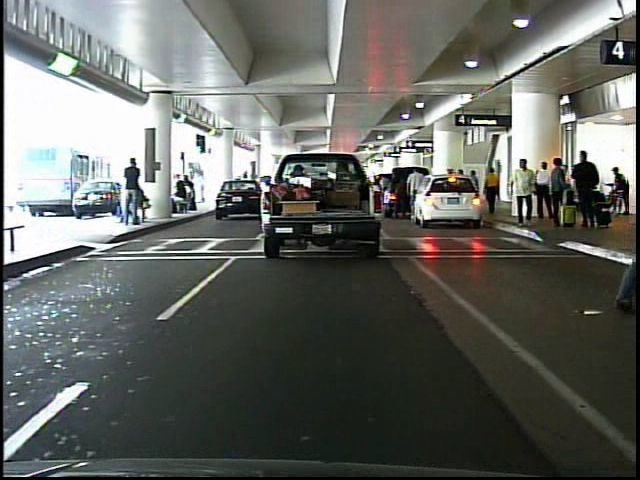person: (570, 146, 609, 232), (509, 156, 541, 233), (124, 158, 147, 229), (405, 163, 430, 222), (549, 154, 568, 228), (535, 161, 555, 223), (485, 163, 502, 217), (606, 161, 631, 195)
